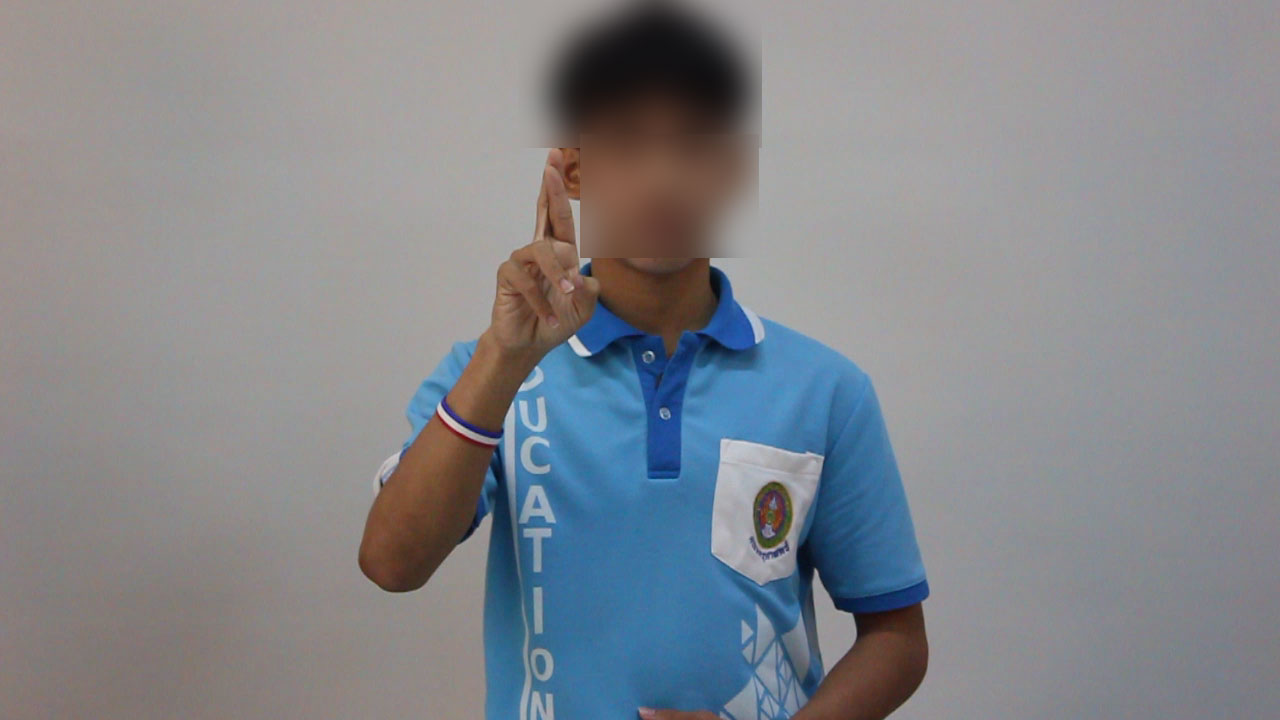rao: (459, 139, 608, 351)
